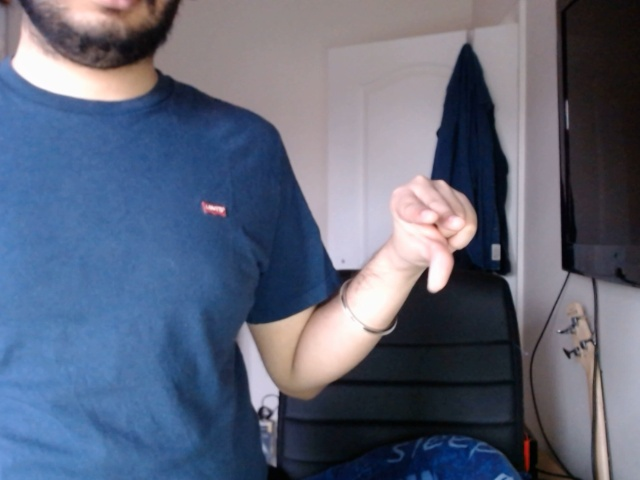No: (378, 168, 503, 302)
